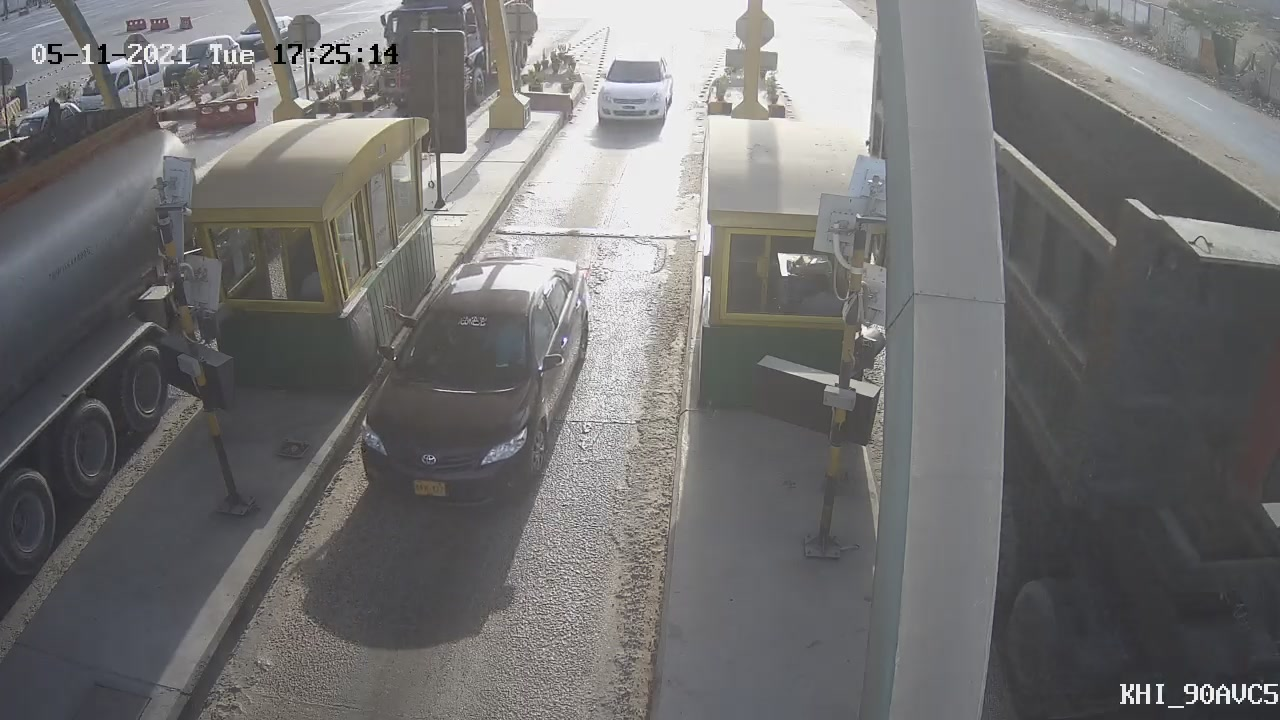F1: (327, 233, 608, 535), (574, 40, 694, 139)
